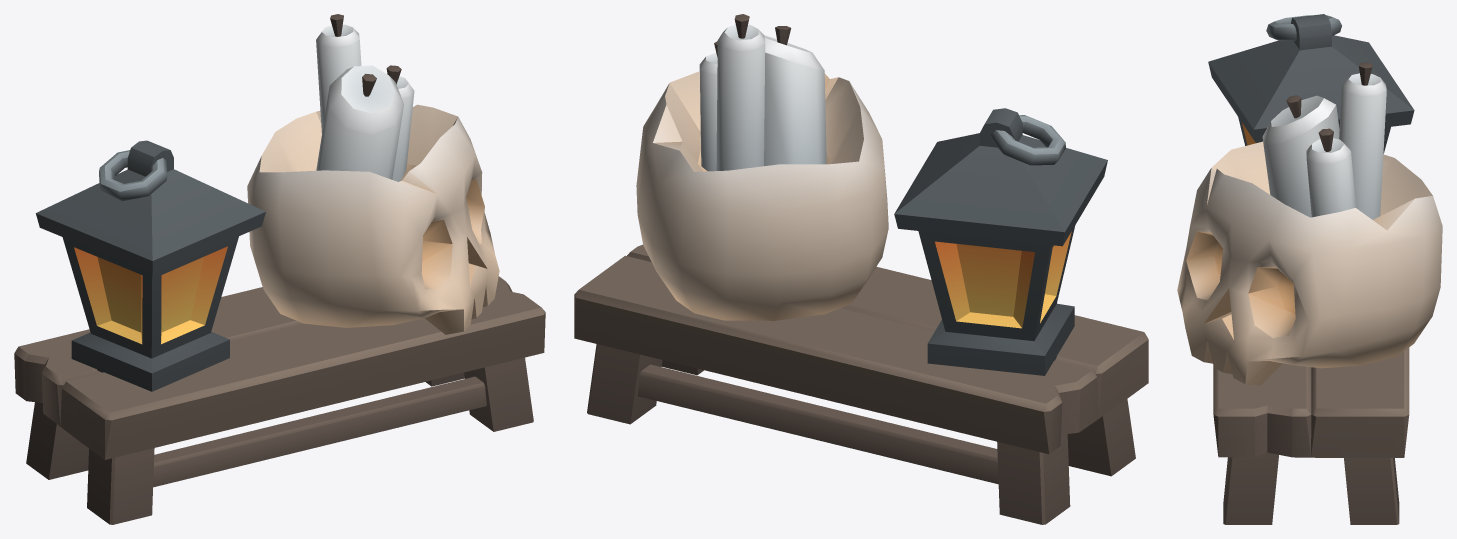
The model's file is bench_decorated.glb.
The picture shows the model from 3 angles, left to right: view 1: azimuth 30°, elevation 25°; view 2: azimuth 150°, elevation 25°; view 3: azimuth 270°, elevation 25°; orthographic projection. The views are drawn at different scales.
Visible parts, largest first — view 1: bench_decorated; view 2: bench_decorated; view 3: bench_decorated.
Boxes of the visible parts, x1,y1,x2,y2 form: bench_decorated: (14, 14, 545, 524); bench_decorated: (574, 14, 1148, 524); bench_decorated: (1177, 14, 1442, 524).
Bounding box in the file's own units: 2 × 1.68 × 1.02.
Materials: 1 (1 with a texture image).
